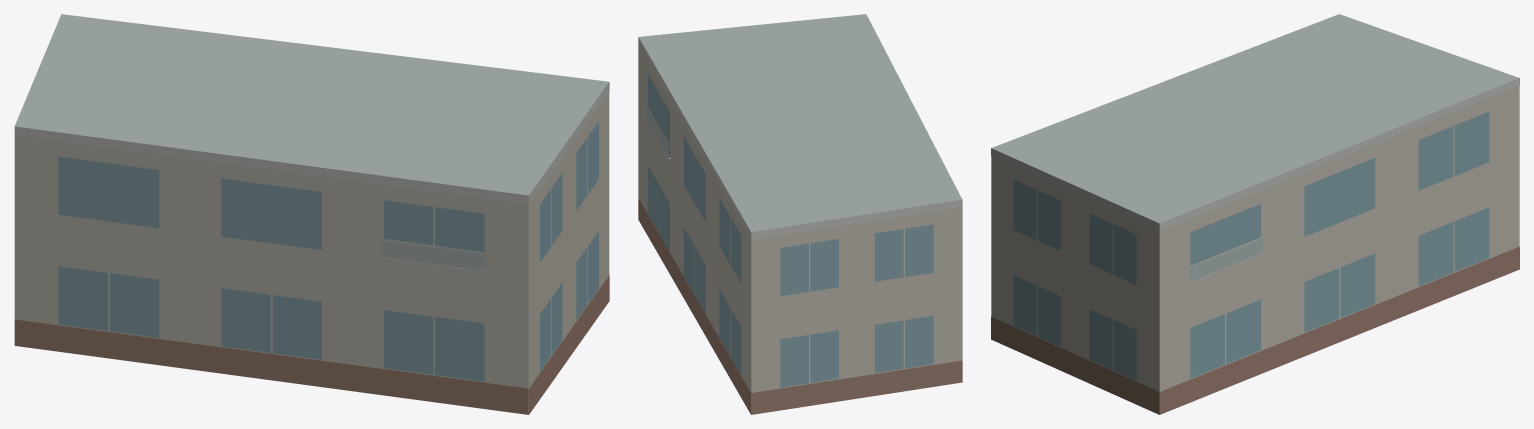
Rendered from survey-upis-32525722.glb.
3 views of the same model, side by side, from view 1: azimuth 30°, elevation 25°; view 2: azimuth 150°, elevation 25°; view 3: azimuth 270°, elevation 25° (orthographic). The views are drawn at different scales.
Visible parts, largest first — view 1: survey-upis-32525722.tmp; view 2: survey-upis-32525722.tmp; view 3: survey-upis-32525722.tmp.
Part boxes in pixels (box(x1,y1,x2,y2)): survey-upis-32525722.tmp: box(14, 14, 609, 414); survey-upis-32525722.tmp: box(638, 14, 962, 414); survey-upis-32525722.tmp: box(991, 14, 1519, 414).
Size of the model in its own units: 14.33 by 6.1 by 15.27.
